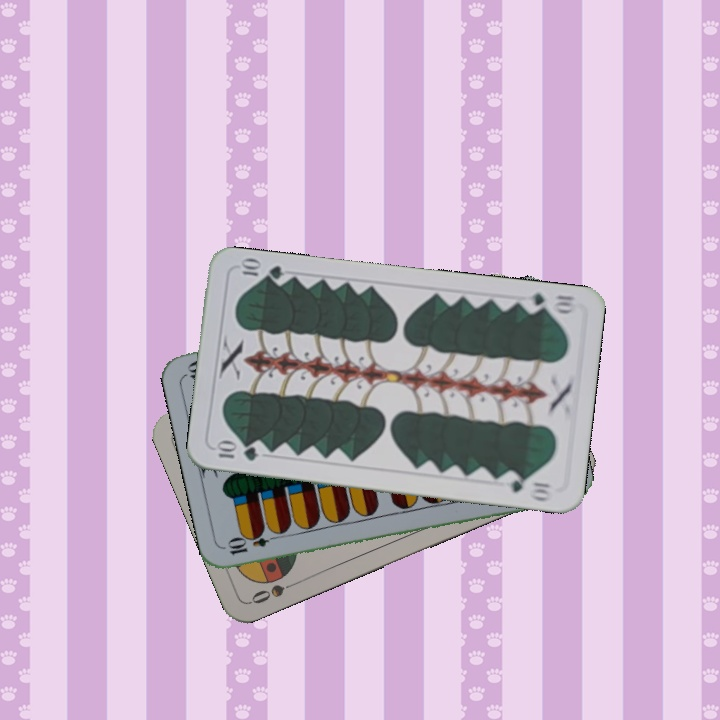E10: (223, 529, 282, 558)
G10: (519, 289, 579, 317), (211, 439, 261, 464)
SO: (247, 576, 303, 607)
